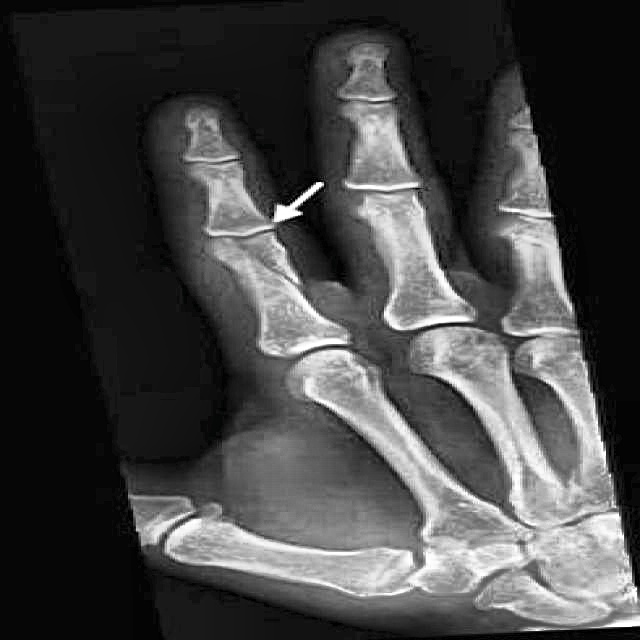Oblique Displaced: (195, 215, 309, 305)
